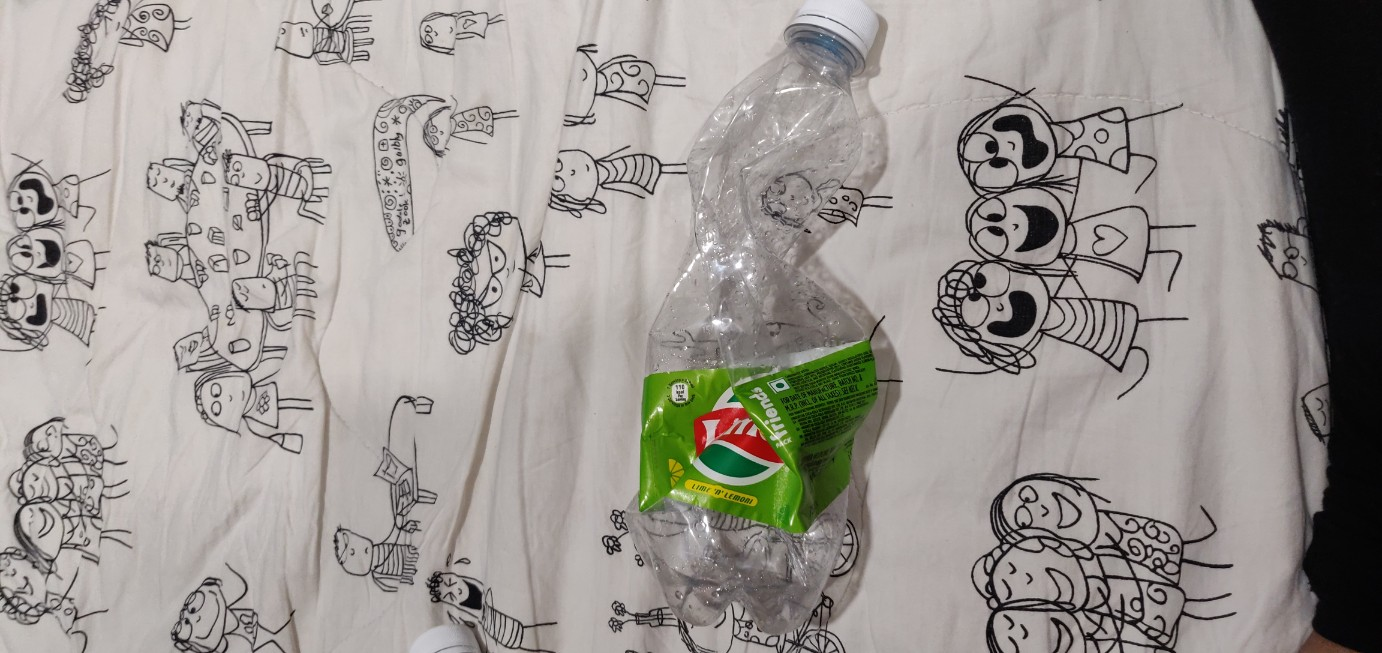Electronics: (606, 4, 917, 648)
